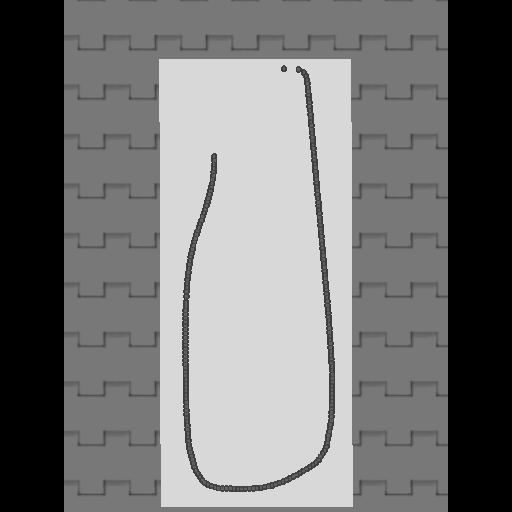Defect: (200, 76, 218, 153)
